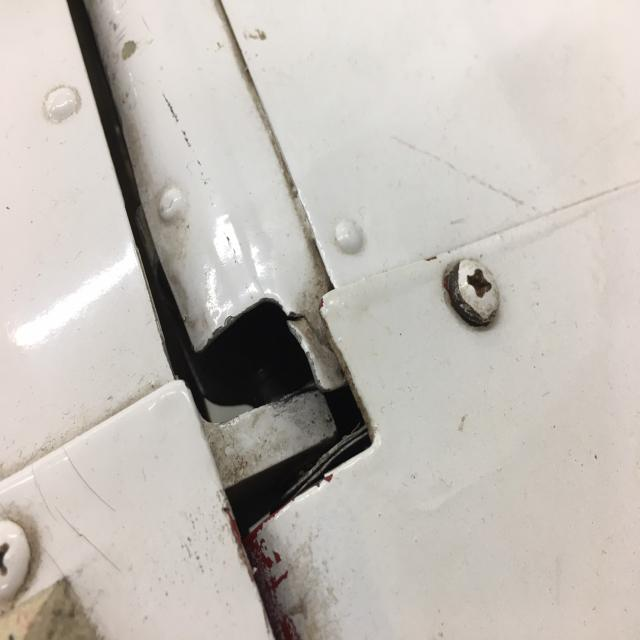Rupture: (2, 410, 142, 595), (408, 174, 510, 348)
